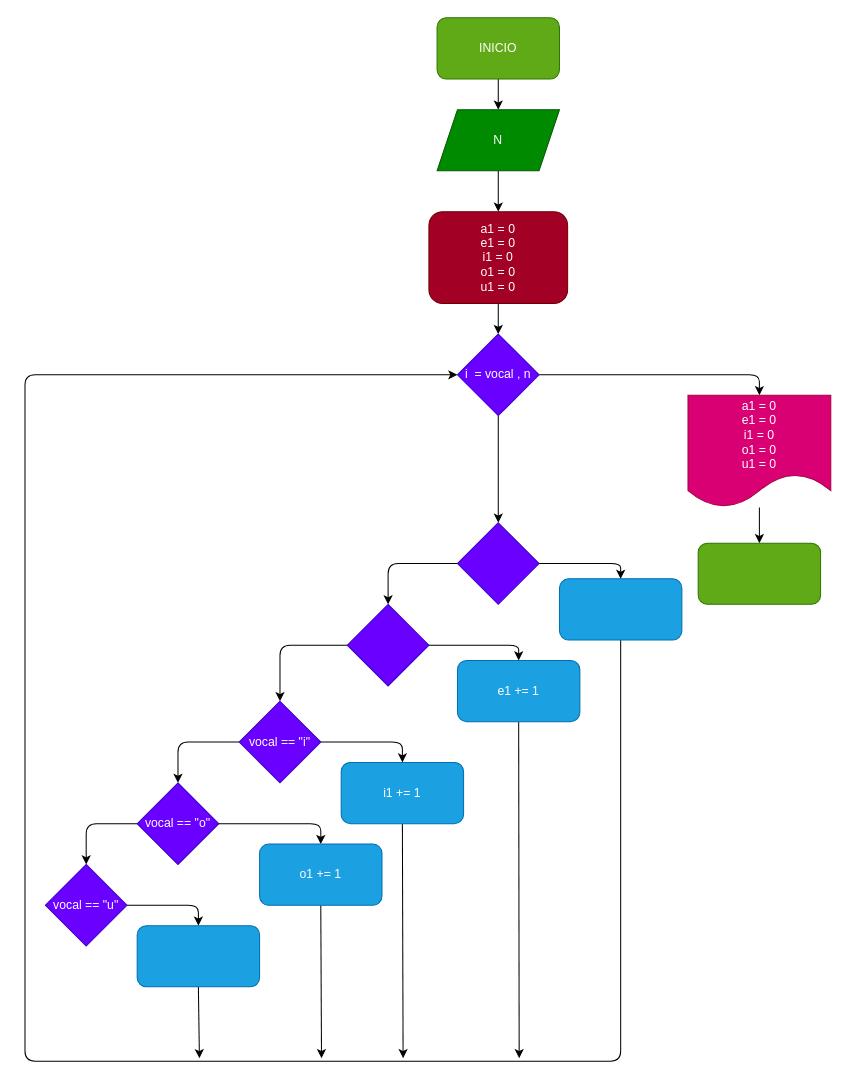
The diagram is 849 pixels wide and 1087 high, and some of its shapes have lost their labels. The centre of each missing label's shape, as x and y in pixels:
a1 += 1: point 620,609
FIN: point 759,573
u1 += 1: point 198,956
vocal == "a": point 497,563
vocal == "e": point 387,644
